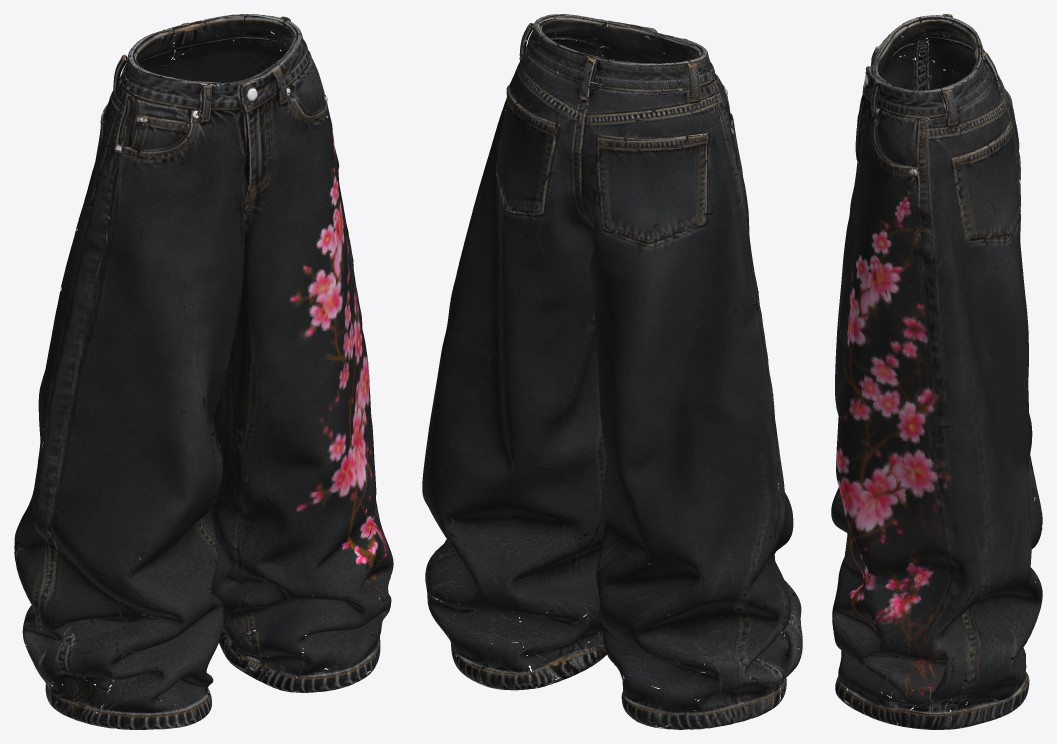
The model's file is denim.glb.
The picture shows the model from 3 angles, left to right: view 1: azimuth 30°, elevation 25°; view 2: azimuth 150°, elevation 25°; view 3: azimuth 270°, elevation 25°; orthographic projection. The views are drawn at different scales.
Bounding box in the file's own units: 1.11 × 1.9 × 0.5993.
Materials: 1 (1 with a texture image).
